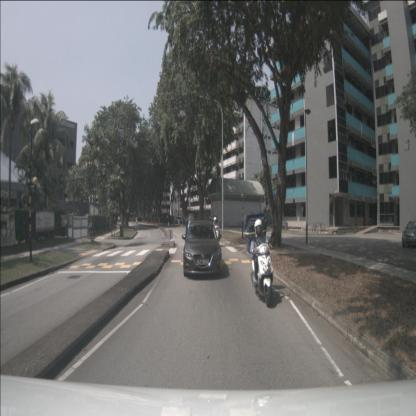vehicle-car: (183, 220, 222, 277), (402, 220, 415, 249)
vehicle-motorcycle: (244, 212, 274, 307), (209, 216, 222, 253)
